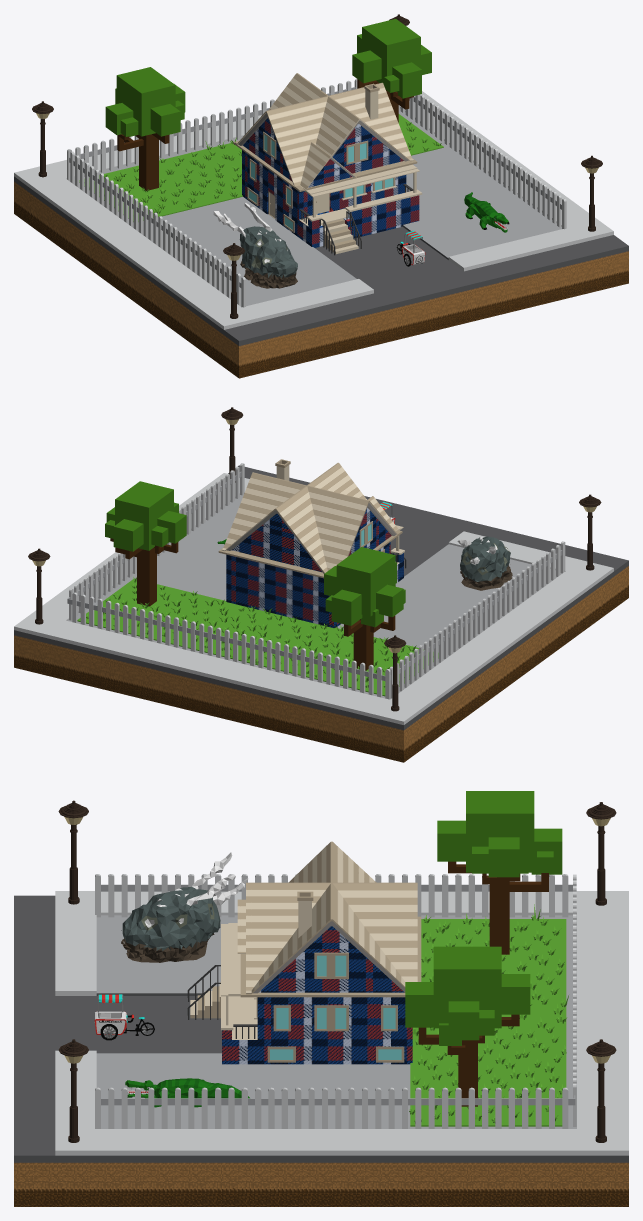
3 views of the same model, one above another, from view 1: azimuth 30°, elevation 25°; view 2: azimuth 150°, elevation 25°; view 3: azimuth 270°, elevation 25° (orthographic). The views are drawn at different scales.
Visible parts, largest first — view 1: Cube.004, Cube.171, OBJRANDOM_METEORITE, ANIMAL_COCODRILO, VEHICLES_SNOWBAL_BIKE; view 2: Cube.004, Cube.171, OBJRANDOM_METEORITE; view 3: Cube.004, Cube.171, OBJRANDOM_METEORITE, ANIMAL_COCODRILO, VEHICLES_SNOWBAL_BIKE.
Boxes of the visible parts, bbox=[...] form: Cube.004: bbox=[14, 14, 628, 378]; Cube.171: bbox=[233, 73, 422, 255]; OBJRANDOM_METEORITE: bbox=[213, 203, 297, 288]; ANIMAL_COCODRILO: bbox=[464, 192, 509, 232]; VEHICLES_SNOWBAL_BIKE: bbox=[396, 230, 425, 266]; Cube.004: bbox=[14, 407, 628, 762]; Cube.171: bbox=[218, 459, 406, 627]; OBJRANDOM_METEORITE: bbox=[457, 536, 512, 590]; Cube.004: bbox=[14, 791, 628, 1206]; Cube.171: bbox=[187, 841, 421, 1064]; OBJRANDOM_METEORITE: bbox=[121, 852, 248, 962]; ANIMAL_COCODRILO: bbox=[125, 1078, 249, 1107]; VEHICLES_SNOWBAL_BIKE: bbox=[94, 994, 154, 1040].
Bounding box in the file's own units: 4000 × 1702 × 4000.
Materials: 32 (4 with a texture image).
